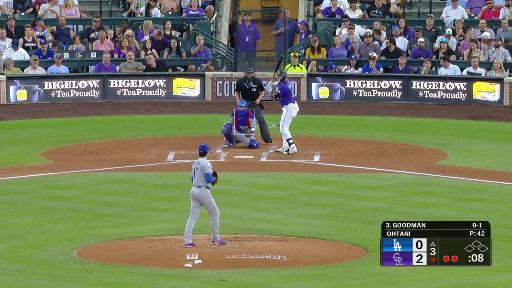pitcher: (184, 142, 229, 247)
